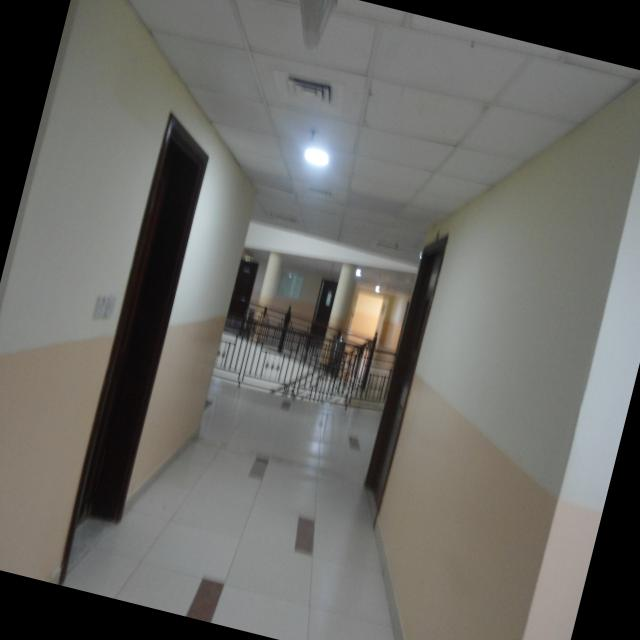door: (49, 103, 228, 597), (344, 225, 451, 506)
exitLight: (277, 0, 341, 49)
light: (298, 138, 336, 174)
pillar: (310, 258, 365, 378), (245, 252, 288, 344)
railing: (208, 306, 400, 417), (260, 309, 388, 433), (214, 286, 350, 373)
wall: (337, 84, 640, 640), (0, 0, 187, 579)
